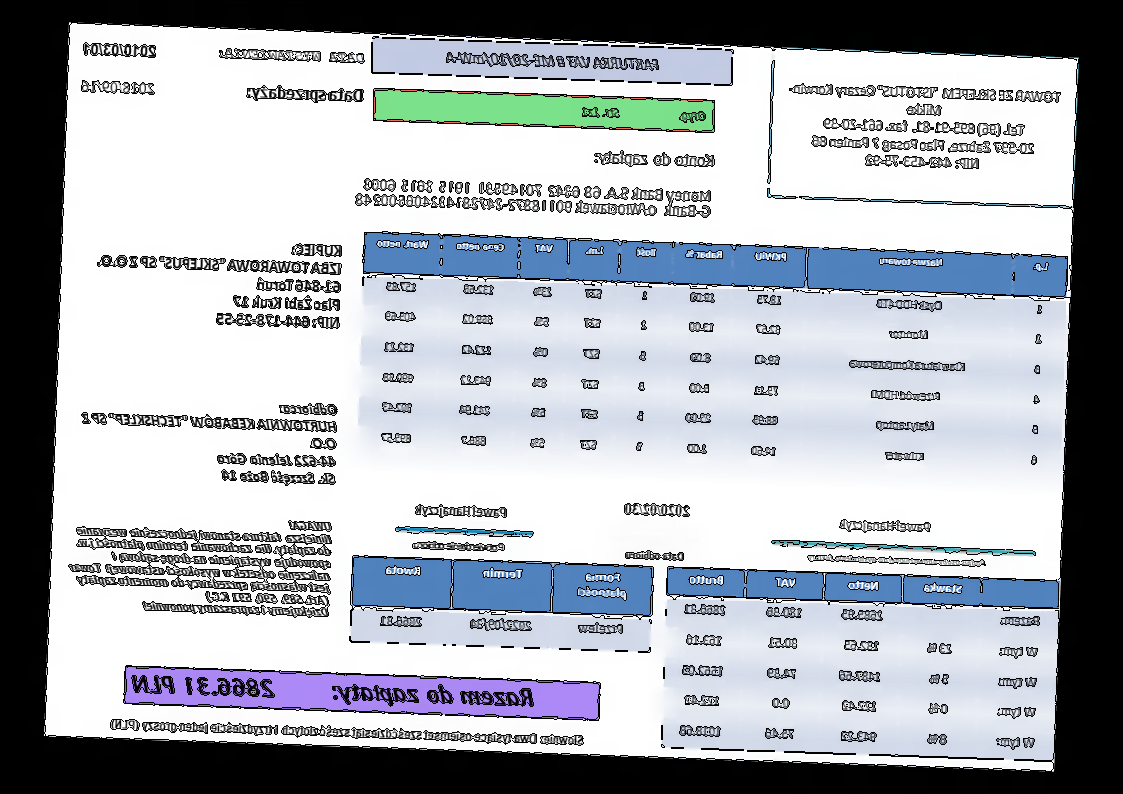Table: (355, 229, 1070, 482), (660, 565, 1060, 763), (349, 554, 654, 653)
TextBox: (63, 509, 333, 620), (785, 81, 1063, 174), (79, 391, 340, 488), (94, 232, 345, 332), (128, 669, 538, 714), (108, 715, 586, 751), (352, 176, 714, 219), (442, 49, 661, 74), (216, 44, 366, 68), (807, 551, 989, 570), (593, 148, 717, 172), (244, 82, 366, 106), (580, 105, 708, 125), (414, 501, 510, 523), (837, 514, 933, 535), (83, 40, 160, 61), (77, 78, 157, 98), (411, 538, 507, 554), (623, 500, 692, 520), (624, 548, 687, 563)
